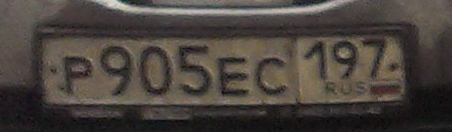character: (175, 44, 214, 100), (99, 42, 136, 99), (137, 44, 174, 101), (62, 55, 95, 102), (255, 56, 291, 97), (218, 56, 253, 98), (331, 40, 361, 83), (304, 39, 330, 85), (360, 36, 387, 80)
